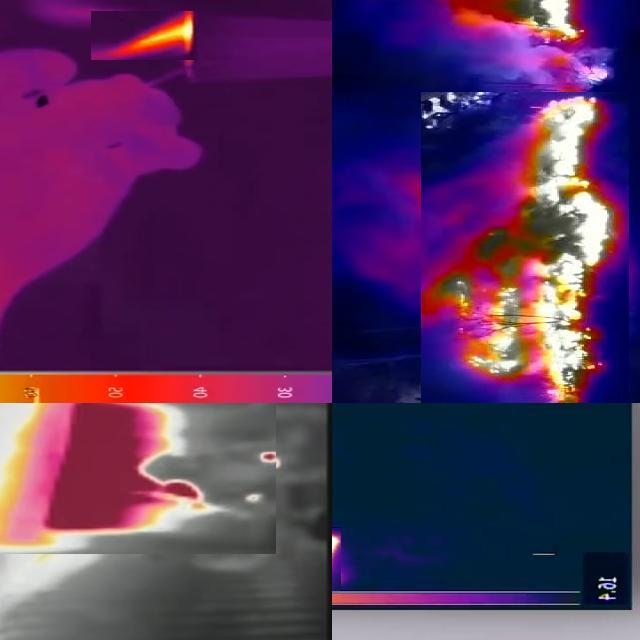fire: (422, 92, 630, 404), (1, 404, 277, 554), (456, 1, 612, 86), (92, 11, 199, 60)
